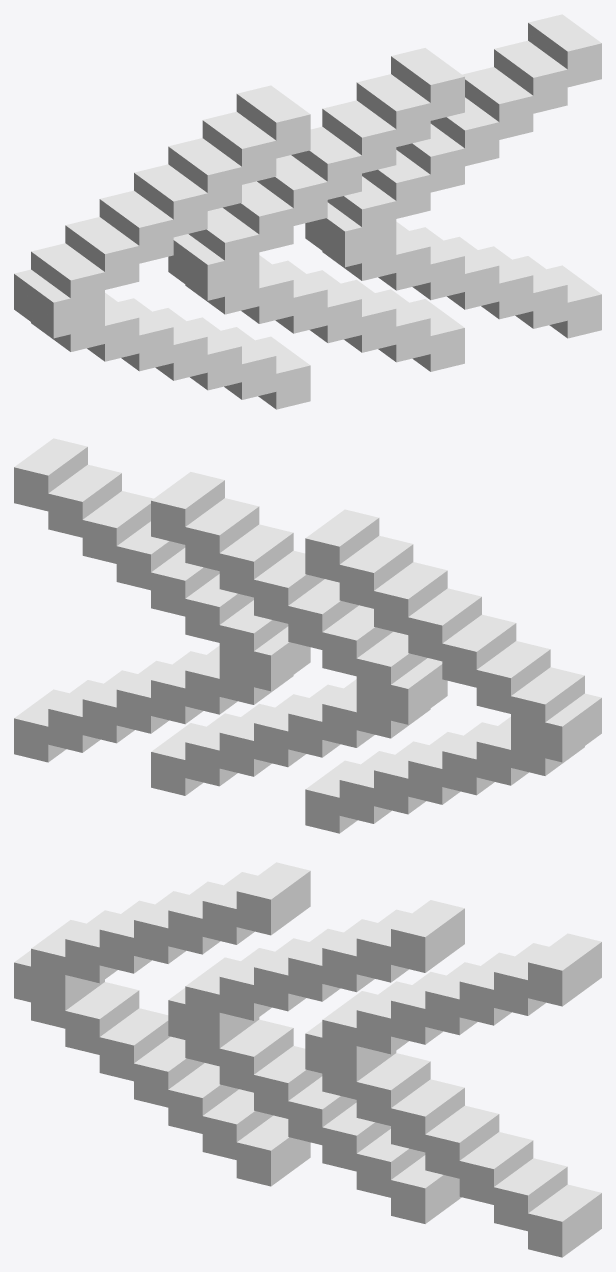
The model's file is indicator.obj.
3 renders of one model, top to bottom at view 1: azimuth 30°, elevation 25°; view 2: azimuth 150°, elevation 25°; view 3: azimuth 330°, elevation 25°, orthographic.
Size of the model in its own units: 3.2 by 1.6 by 0.4.
1 material, 1 textured.
